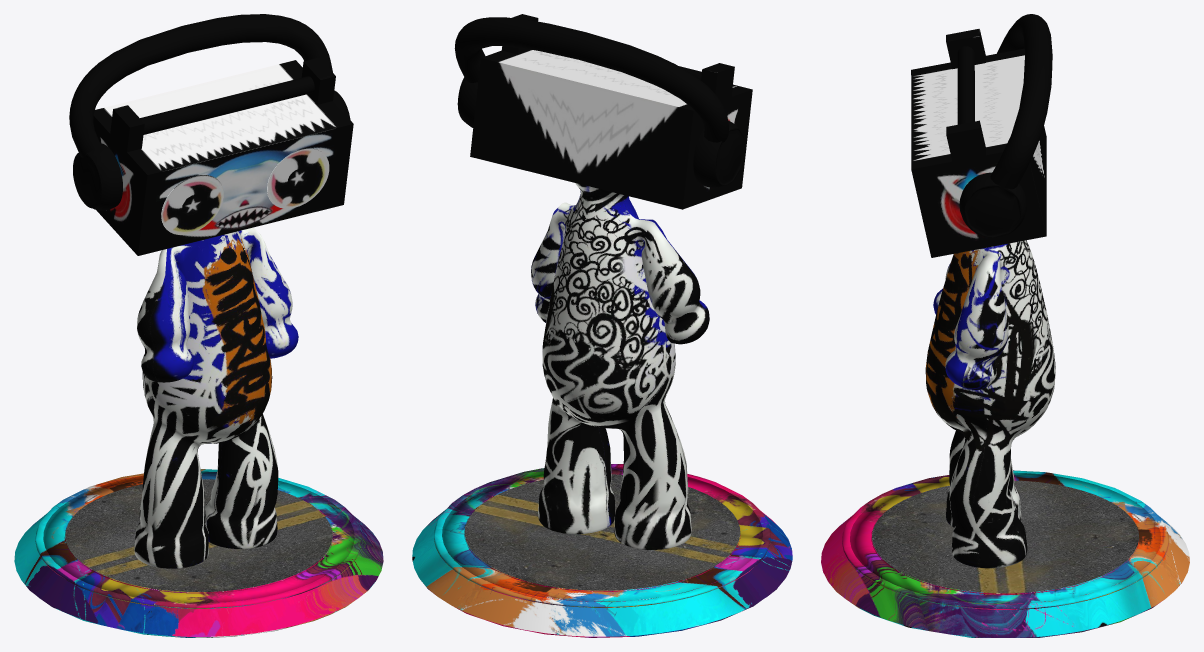
3 renders of one model, left to right at view 1: azimuth 30°, elevation 25°; view 2: azimuth 150°, elevation 25°; view 3: azimuth 270°, elevation 25°, orthographic. The views are drawn at different scales.
Parts seen in each view (by area): view 1: BBody; view 2: BBody; view 3: BBody.
Part boxes in pixels (x1,y1,x2,y2): BBody: (14, 14, 383, 637); BBody: (412, 14, 792, 637); BBody: (821, 14, 1189, 637).
Size of the model in its own units: 1.45 by 2.25 by 1.45.
Materials: 5 (4 with a texture image).
